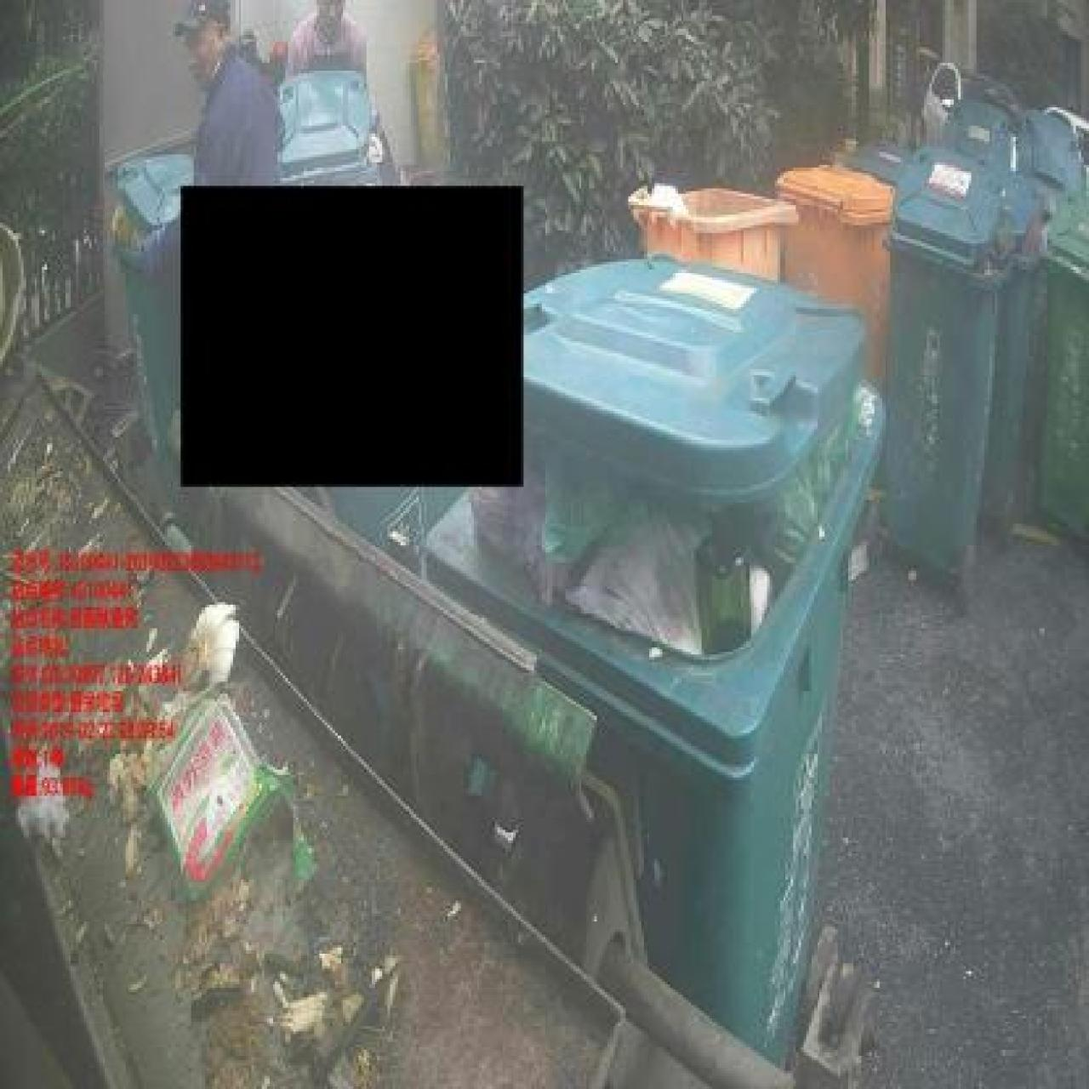bin_empty: (882, 145, 1012, 583), (778, 165, 893, 389), (629, 185, 798, 280), (279, 68, 391, 185)
bin_full: (429, 254, 883, 1058)
